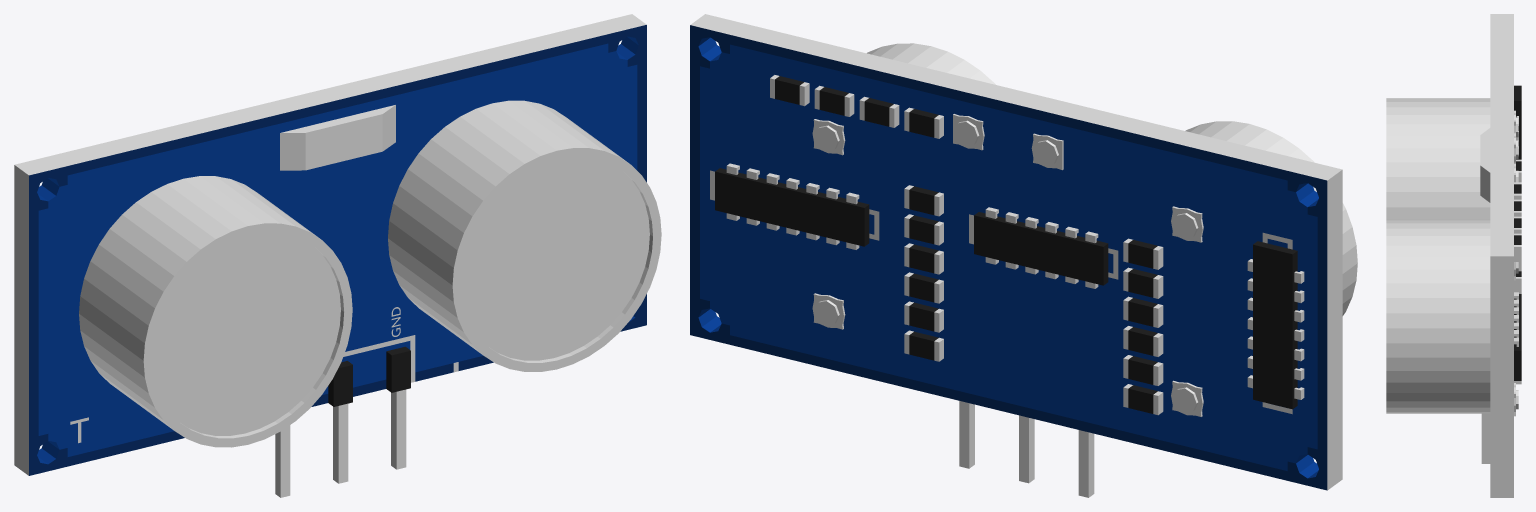
The model's file is UltrasonicDistanceSensor.glb.
The picture shows the model from 3 angles, left to right: view 1: azimuth 30°, elevation 25°; view 2: azimuth 150°, elevation 25°; view 3: azimuth 270°, elevation 25°; orthographic projection. The views are drawn at different scales.
Parts seen in each view (by area): view 1: Ultrasonic Distance Sensor, Ultrasonic Distance Sensor.005, Ultrasonic Distance Sensor.004, Ultrasonic Distance Sensor.003, Ultrasonic Distance Sensor.002, Ultrasonic Distance Sensor.001; view 2: Ultrasonic Distance Sensor, Ultrasonic Distance Sensor.005, Ultrasonic Distance Sensor.004, Ultrasonic Distance Sensor.001, Ultrasonic Distance Sensor.003, Ultrasonic Distance Sensor.002; view 3: Ultrasonic Distance Sensor.004, Ultrasonic Distance Sensor, Ultrasonic Distance Sensor.005, Ultrasonic Distance Sensor.003.
Boxes of the visible parts, x1,y1,x2,y2 form: Ultrasonic Distance Sensor: [14, 14, 646, 475]; Ultrasonic Distance Sensor.005: [79, 176, 352, 447]; Ultrasonic Distance Sensor.004: [388, 100, 661, 371]; Ultrasonic Distance Sensor.003: [391, 389, 406, 469]; Ultrasonic Distance Sensor.002: [333, 403, 348, 483]; Ultrasonic Distance Sensor.001: [275, 425, 290, 497]; Ultrasonic Distance Sensor: [690, 14, 1342, 490]; Ultrasonic Distance Sensor.005: [1185, 121, 1357, 315]; Ultrasonic Distance Sensor.004: [867, 43, 995, 84]; Ultrasonic Distance Sensor.001: [1078, 430, 1094, 497]; Ultrasonic Distance Sensor.003: [959, 401, 974, 468]; Ultrasonic Distance Sensor.002: [1019, 415, 1034, 483]; Ultrasonic Distance Sensor.004: [1386, 219, 1490, 413]; Ultrasonic Distance Sensor: [1480, 14, 1521, 497]; Ultrasonic Distance Sensor.005: [1386, 98, 1490, 219]; Ultrasonic Distance Sensor.003: [1481, 413, 1490, 463].
Bounding box in the file's own units: 0.757 × 0.4431 × 0.1784.
